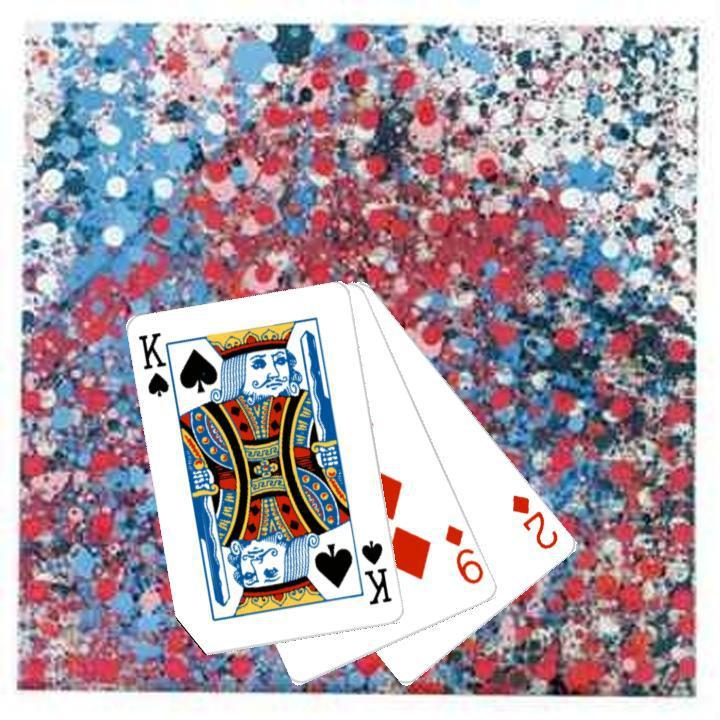2: (508, 490, 561, 552)
9: (440, 520, 487, 587)
K: (135, 328, 180, 403), (357, 536, 395, 608)
